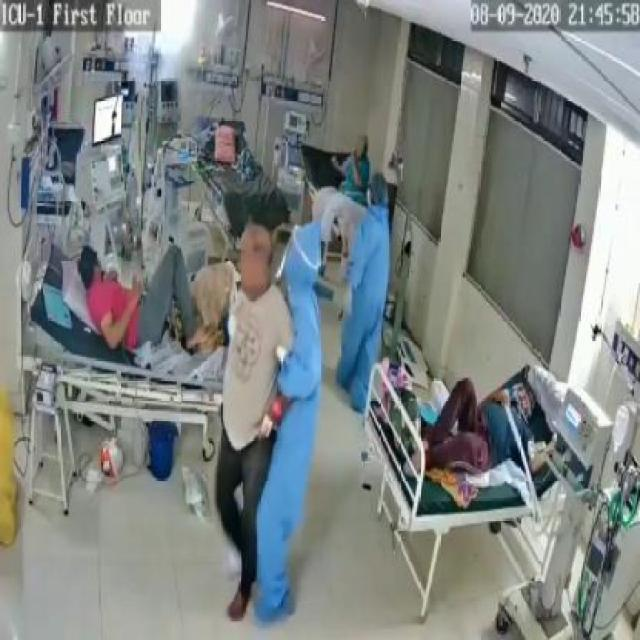smoke: (134, 30, 188, 84)
